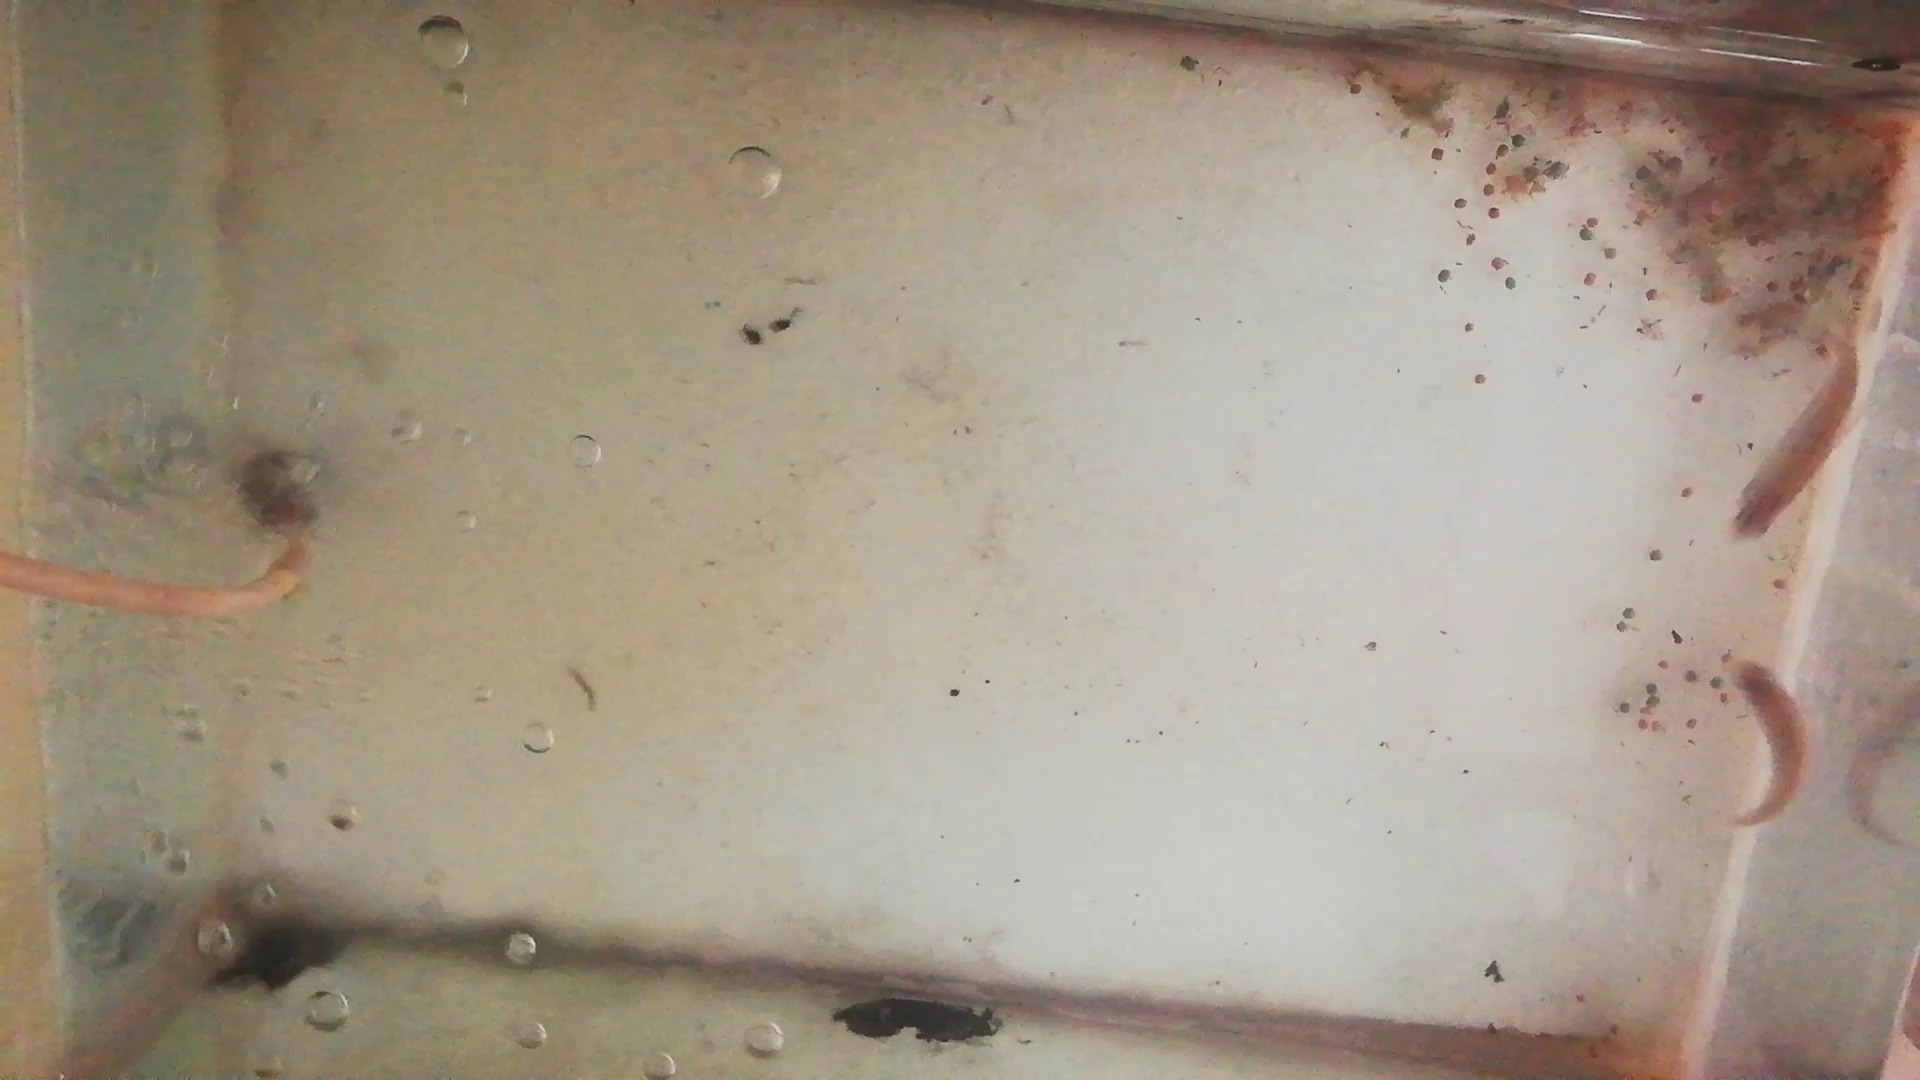fish: (1729, 330, 1862, 541), (1724, 655, 1807, 833)
